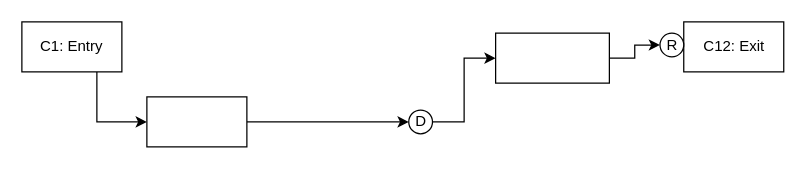
Some shapes in this 806 by 169 pixel diagram are drawn without their labels. The centre of each missing label's shape, as x and y in pixels:
"C5: Stock Retriever" goes at pixel 196 121.
"C7: LSTM" goes at pixel 551 57.
